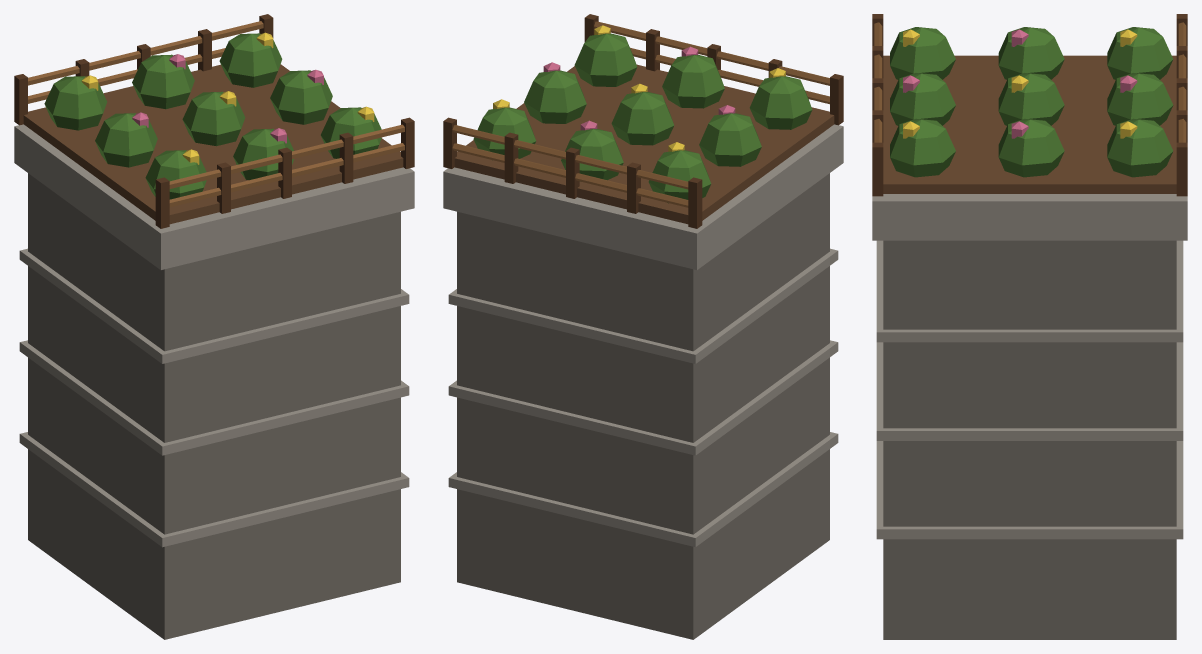
File: garden.glb
3 renders of one model, left to right at view 1: azimuth 30°, elevation 25°; view 2: azimuth 150°, elevation 25°; view 3: azimuth 270°, elevation 25°, orthographic. The views are drawn at different scales.
Visible parts, largest first — view 1: garden; view 2: garden; view 3: garden.
Part boxes in pixels (x1=…): garden: x1=14, y1=14, x2=414, y2=639; garden: x1=443, y1=14, x2=843, y2=639; garden: x1=872, y1=14, x2=1187, y2=639.
Bounding box in the file's own units: 2.9 × 5.15 × 2.9.
